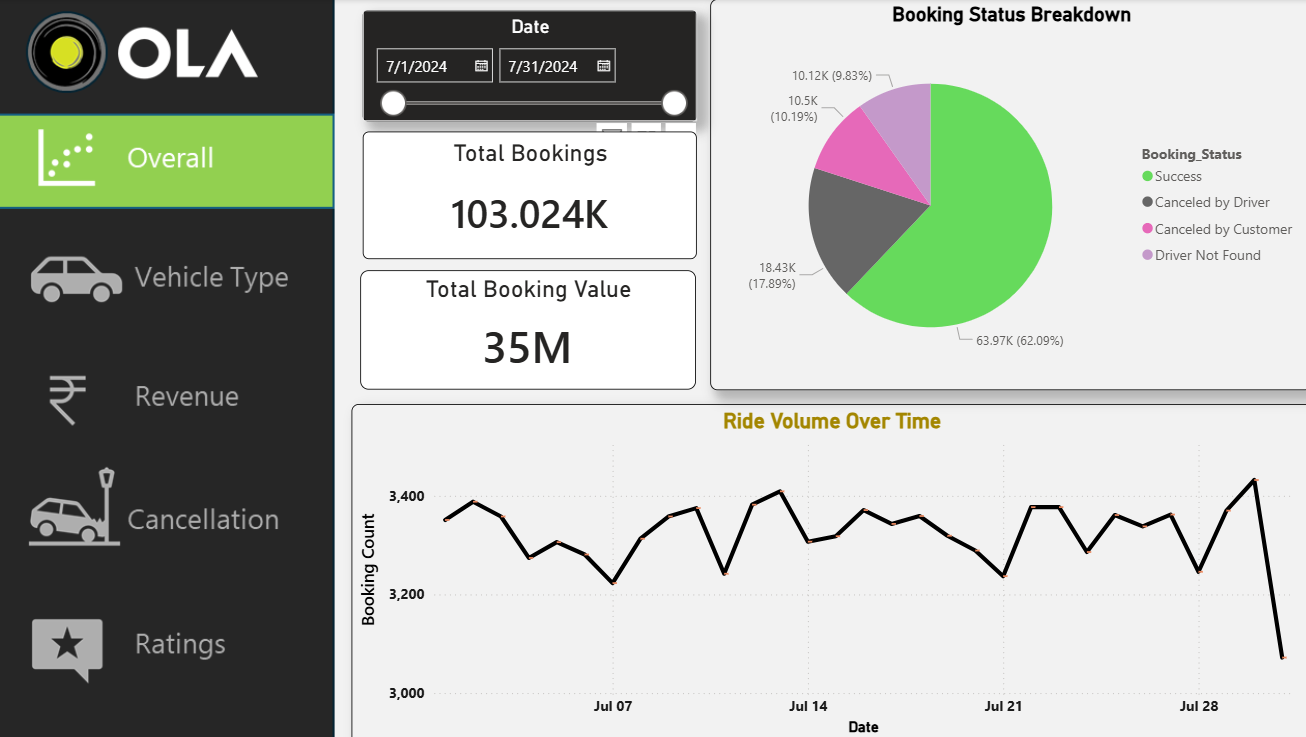

What the dashboard file says about the page in this screenshot:
{"tool":"powerbi","page":{"name":"Overall","canvas":[1280,720],"ordinal":0},"visuals":[{"type":"actionButton","box":[0,228,323.3,90.5],"z":0},{"type":"actionButton","box":[0,331.8,323.3,90.5],"z":1},{"type":"actionButton","box":[0,445.2,323.3,90.5],"z":2},{"type":"actionButton","box":[0,577.9,323.3,90.5],"z":3},{"type":"lineChart","title":"Ride Volume Over Time","fields":{"Category":["July.Date"],"Y":["CountNonNull(July.Booking_ID)"]},"box":[339.9,391.1,926.5,329],"z":4},{"type":"pieChart","title":"Booking Status Breakdown","fields":{"Category":["July.Booking_Status"],"Y":["CountNonNull(July.Booking_ID)"]},"box":[686.1,0,580.4,377.4],"z":5},{"type":"slicer","title":"Date","fields":{"Values":["July.Date"]},"box":[351.3,11,322.5,107],"z":6},{"type":"cardVisual","title":"Total Bookings","fields":{"Data":["CountNonNull(July.Booking_ID)"]},"box":[351.3,127.6,322.5,123.5],"z":7},{"type":"cardVisual","title":"Total Booking Value","fields":{"Data":["Sum(July.Booking_Value)"]},"box":[348.5,262.1,323.8,115.3],"z":8}]}

Visuals, with their boxes on the page's 1280x720 design canvas (x1, y1, x2, y2). These are canvas units, not pixel positions in the 1306x737 screenshot, which may show the page scaled, cropped or inside an application window:
actionButton: <region>0, 228, 323, 318</region>
actionButton: <region>0, 332, 323, 422</region>
actionButton: <region>0, 445, 323, 536</region>
actionButton: <region>0, 578, 323, 668</region>
"Ride Volume Over Time" lineChart: <region>340, 391, 1266, 720</region>
"Booking Status Breakdown" pieChart: <region>686, 0, 1266, 377</region>
"Date" slicer: <region>351, 11, 674, 118</region>
"Total Bookings" cardVisual: <region>351, 128, 674, 251</region>
"Total Booking Value" cardVisual: <region>348, 262, 672, 377</region>
